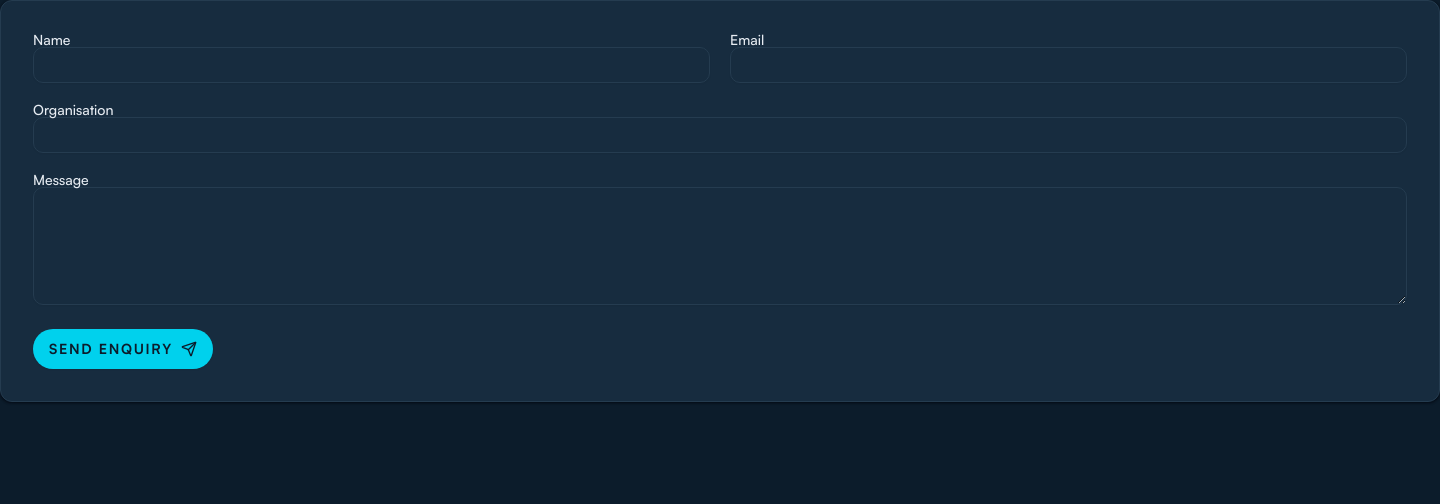
Test case: ContactForm › shows inline validation errors and does not submit an empty form
Click the button "Send enquiry". click: (123, 349)
box: [33,329,213,369]
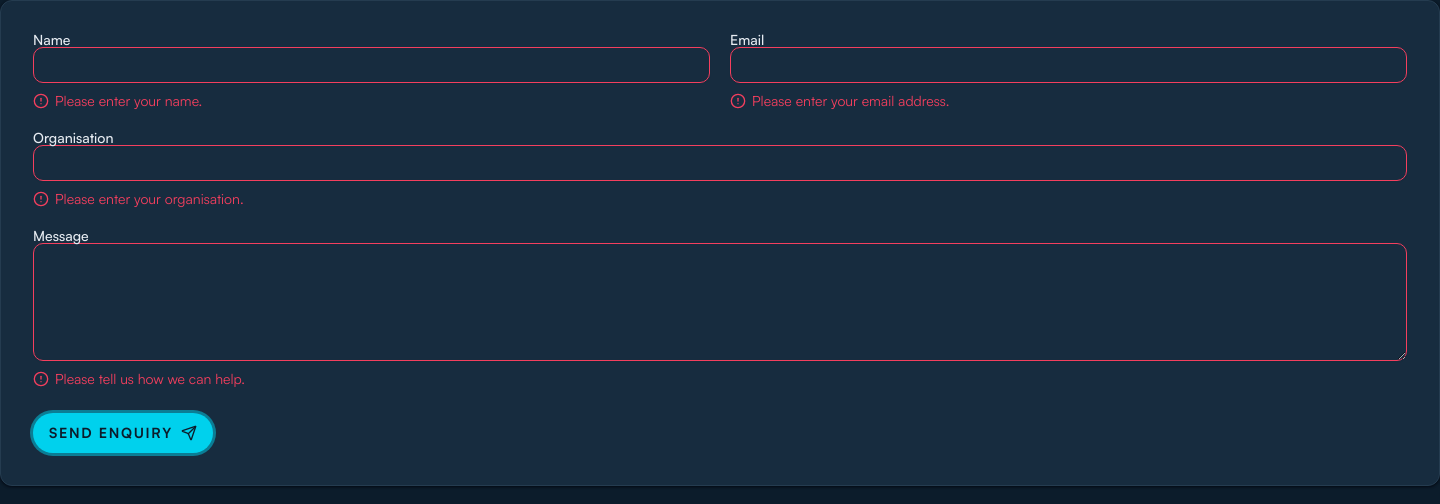
Check: the text "Please enter your name." is shown, box [33,92,202,109]
Check: the text "Please enter your email address." is shown, box [730,92,949,109]
Check: the text "Please enter your organisation." is shown, box [33,190,244,207]
